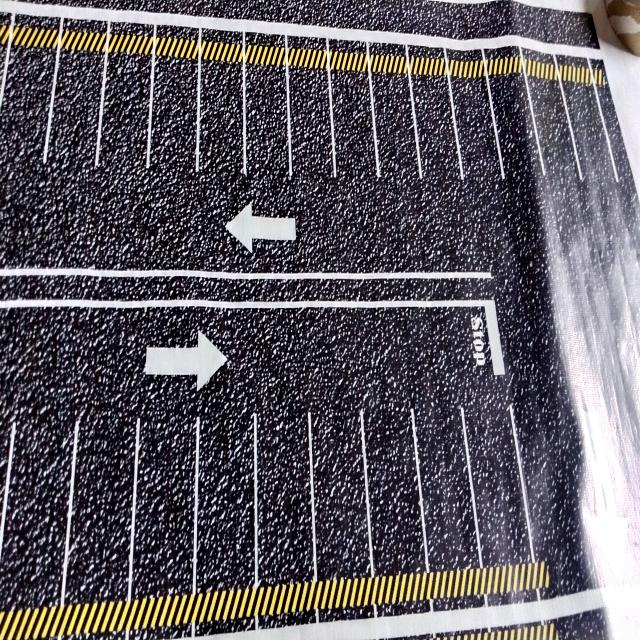others: (605, 0, 640, 56)
slots: (0, 403, 75, 609), (65, 405, 138, 603), (463, 368, 530, 565), (413, 395, 480, 569), (132, 418, 195, 597), (312, 390, 370, 579), (258, 406, 314, 584), (199, 413, 255, 589), (364, 410, 424, 574), (47, 49, 104, 187), (451, 78, 501, 219), (0, 48, 55, 176), (99, 54, 150, 174), (150, 56, 198, 179), (372, 70, 422, 182), (246, 62, 289, 190), (332, 62, 376, 185), (200, 60, 243, 184), (412, 76, 460, 187), (526, 71, 575, 179), (289, 66, 335, 181), (564, 82, 614, 180), (490, 74, 533, 181)
